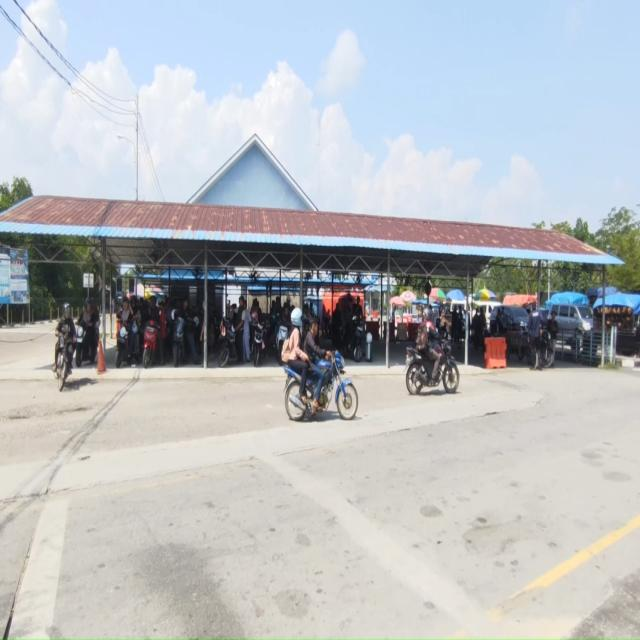Golongan II: (283, 352, 358, 422), (406, 343, 459, 395), (172, 314, 197, 368), (75, 318, 100, 368), (55, 326, 72, 391), (343, 314, 366, 362), (526, 329, 554, 368), (115, 322, 135, 368), (219, 319, 237, 367), (142, 320, 158, 368), (351, 316, 366, 363), (252, 320, 266, 367), (173, 316, 185, 368), (275, 324, 289, 365)
